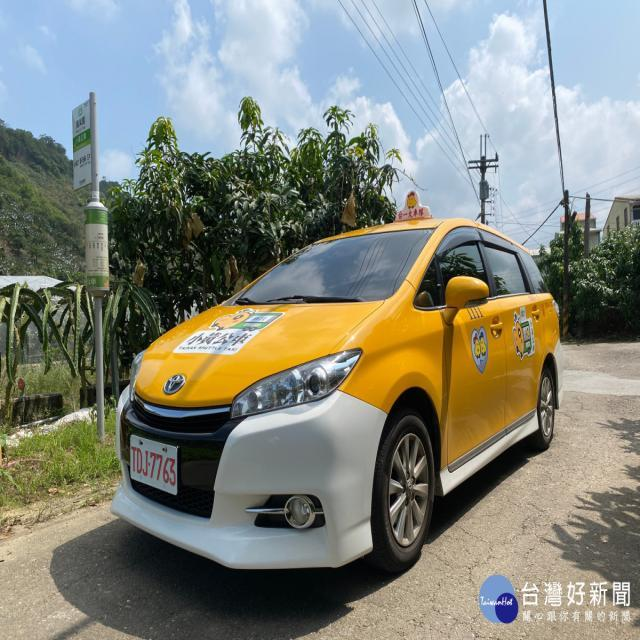taxi: (65, 134, 573, 599)
